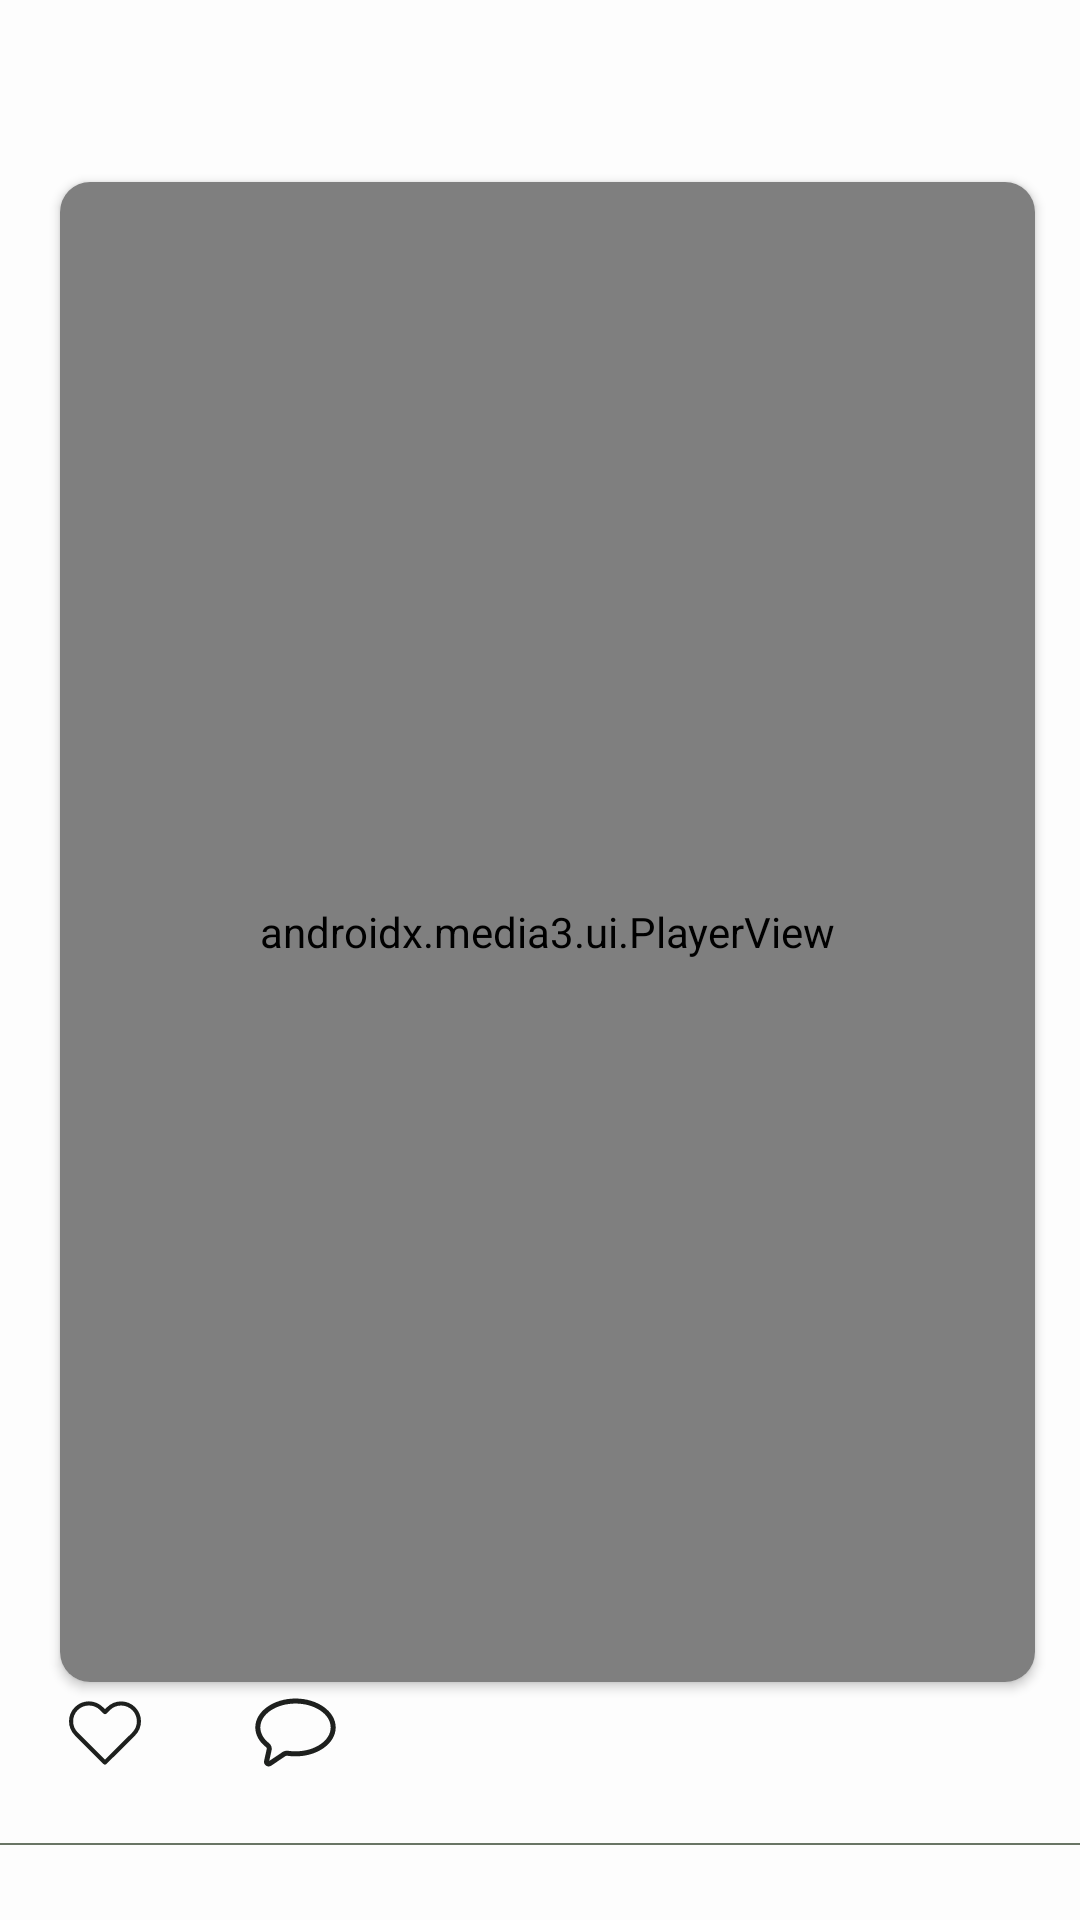

Locate icon controls on the screen. Image size 1080*1920, boxes as (x1, y1, x2, y2).
Add comment for: (255, 1698, 336, 1767)
Like: (69, 1701, 141, 1765)
